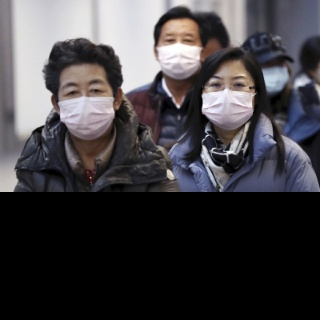with_mask: (55, 76, 116, 138), (202, 72, 255, 131), (156, 30, 203, 82), (260, 61, 290, 96)
